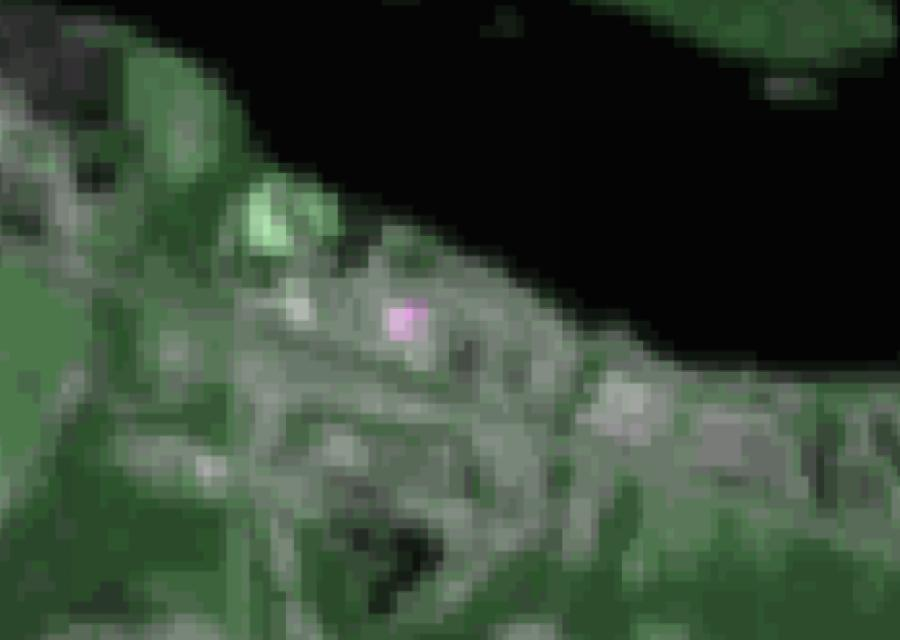Potential Lime Manufacturing Facility: (399, 300, 423, 327)
